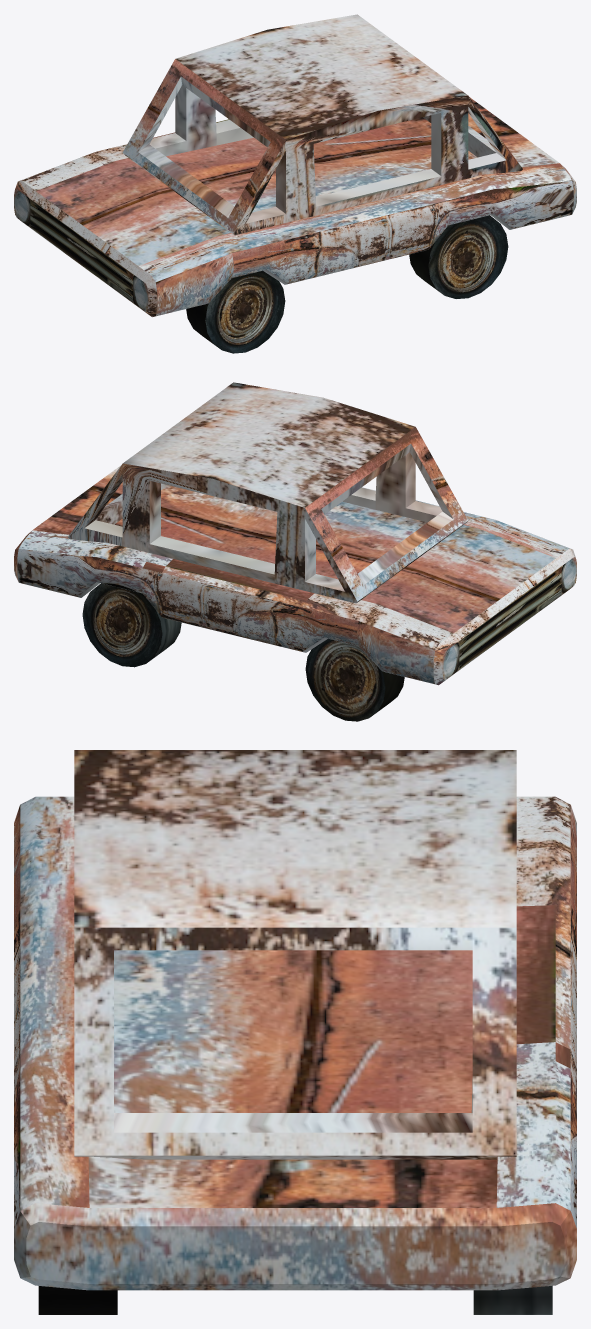
Rendered from Car.fbx.
The picture shows the model from 3 angles, top to bottom: view 1: azimuth 30°, elevation 25°; view 2: azimuth 150°, elevation 25°; view 3: azimuth 270°, elevation 25°; orthographic projection. The views are drawn at different scales.
Parts seen in each view (by area): view 1: pCube1, pCube2, pCylinder4, pCylinder3; view 2: pCube1, pCube2, pCylinder1, pCylinder2; view 3: pCube1, pCube2, pCylinder1, pCylinder4.
Boxes of the visible parts, x1,y1,x2,y2 form: pCube1: (14, 97, 576, 317); pCube2: (122, 14, 522, 235); pCylinder4: (409, 215, 508, 298); pCylinder3: (186, 270, 285, 353); pCube1: (14, 465, 576, 685); pCube2: (68, 382, 468, 603); pCylinder1: (82, 583, 181, 667); pCylinder2: (305, 638, 404, 721); pCube1: (14, 796, 576, 1290); pCube2: (74, 750, 516, 1159); pCylinder1: (473, 1286, 552, 1314); pCylinder4: (38, 1286, 117, 1314).
Size of the model in its own units: 6.49 by 2.88 by 3.66.
